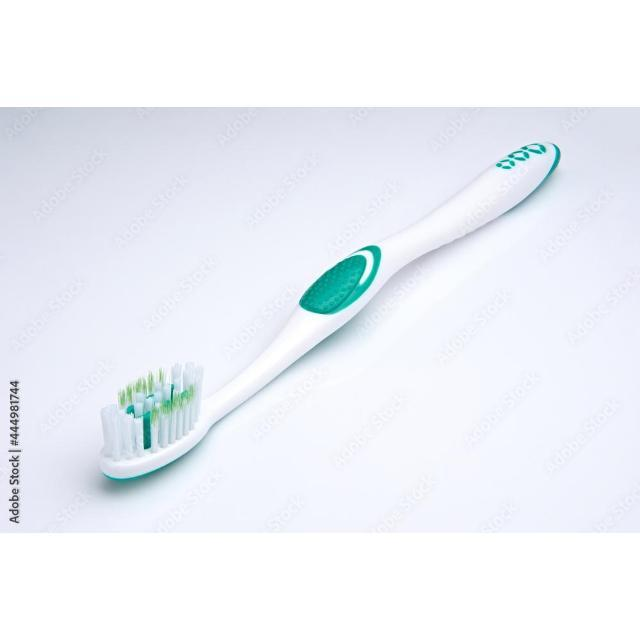toothbrush: (64, 128, 586, 514)
